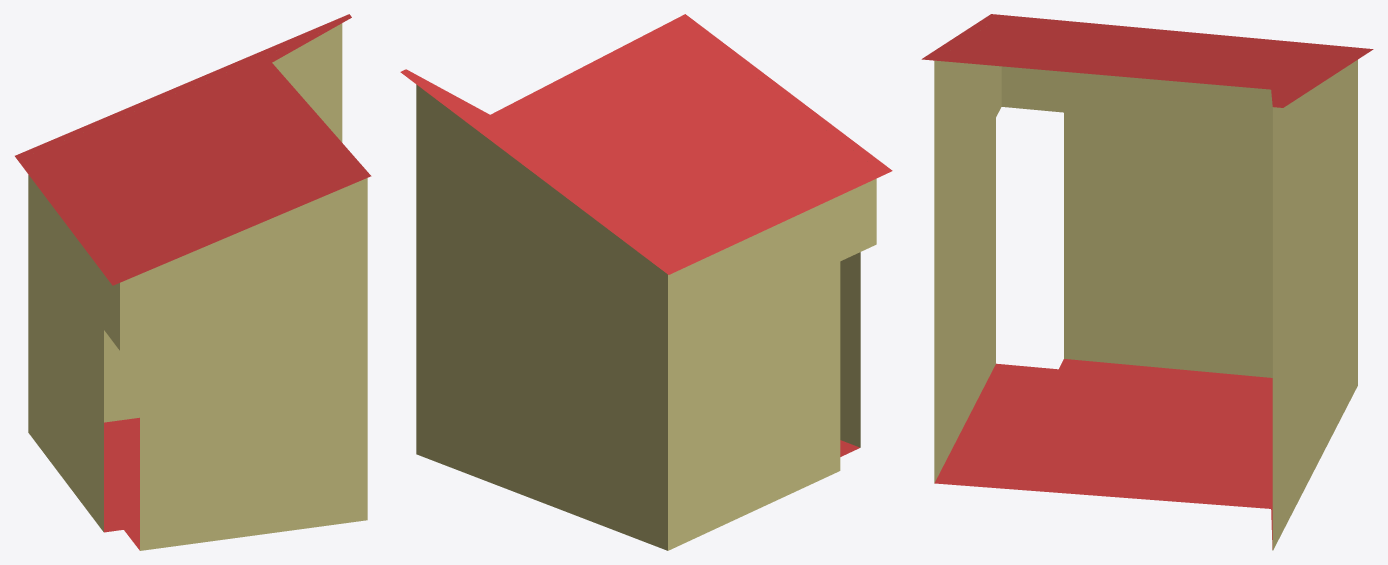
3 views of the same model, side by side, from view 1: azimuth 30°, elevation 25°; view 2: azimuth 150°, elevation 25°; view 3: azimuth 270°, elevation 25° (orthographic). The views are drawn at different scales.
Bounding box in the file's own units: 9.28 × 8.4 × 9.21.
